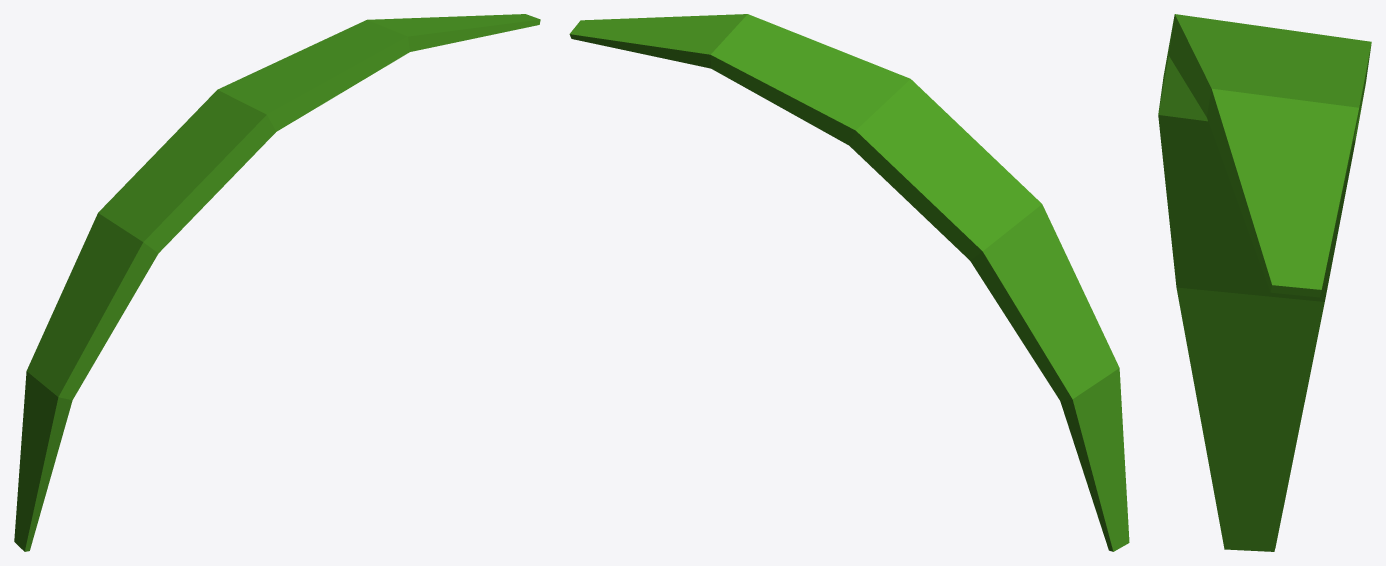
The model's file is Grass.fbx.
The picture shows the model from 3 angles, left to right: view 1: azimuth 30°, elevation 25°; view 2: azimuth 150°, elevation 25°; view 3: azimuth 270°, elevation 25°; orthographic projection. The views are drawn at different scales.
Visible parts, largest first — view 1: Leaf; view 2: Leaf; view 3: Leaf.
Part boxes in pixels (x1=…): Leaf: x1=14, y1=14, x2=540, y2=551; Leaf: x1=569, y1=14, x2=1129, y2=551; Leaf: x1=1158, y1=14, x2=1371, y2=551.
Bounding box in the file's own units: 29.72 × 22.88 × 5.48.
